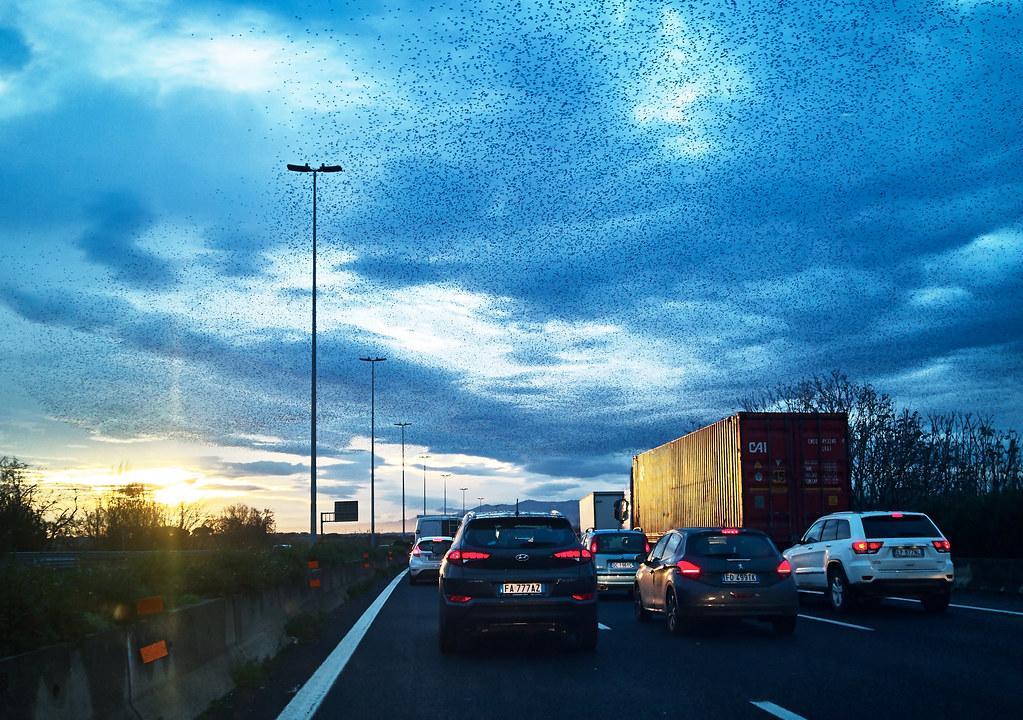car: (438, 511, 599, 653), (634, 527, 800, 636), (782, 511, 955, 613), (582, 528, 650, 597), (409, 536, 454, 585)
